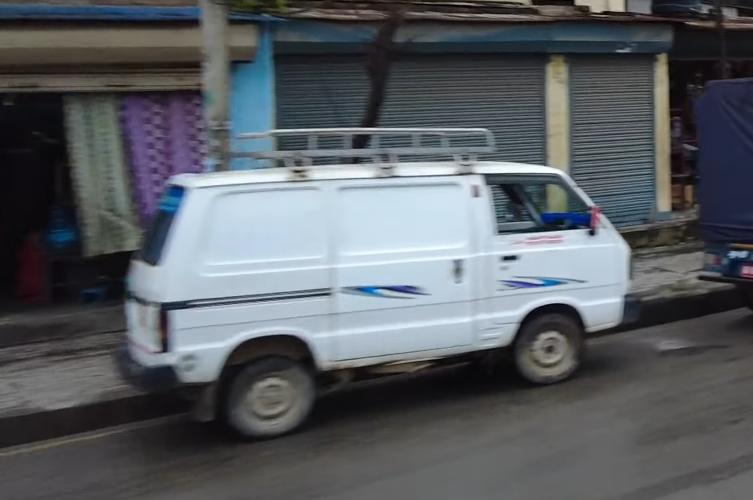van: (121, 121, 636, 440)
